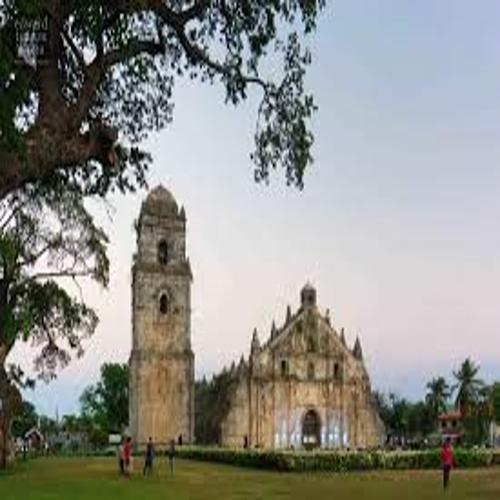Paoay Church: (118, 170, 398, 461)
